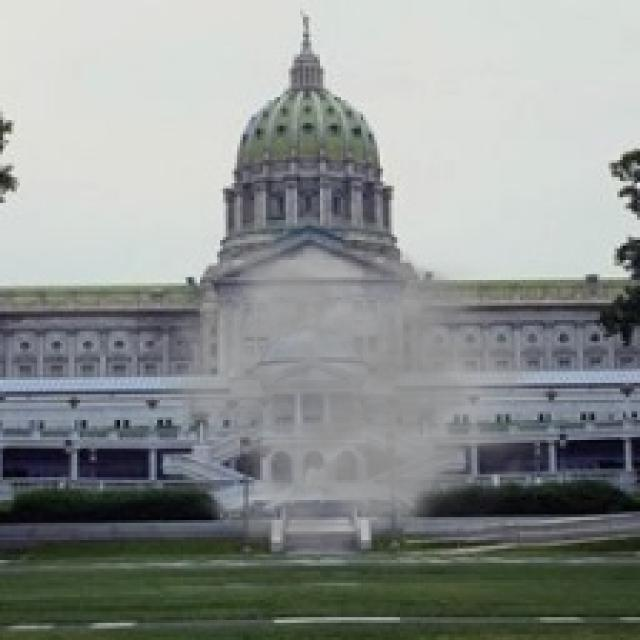smoke: (143, 234, 563, 577)
